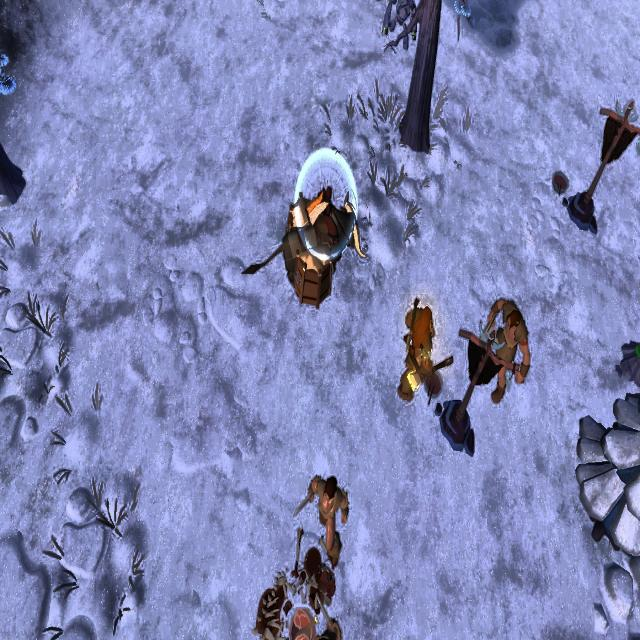enemy_factionKeeper: (476, 295, 533, 410), (392, 300, 451, 402), (302, 470, 351, 574)
